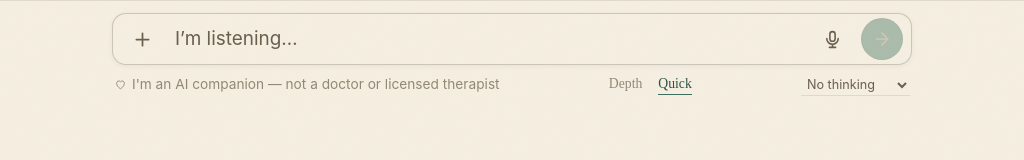
Scenario: voice input › explains a blocked microphone or unreachable speech service
The width and height of the screenshot is (1024, 160).
Click the button named "Voice input".
click(832, 39)  # box [811, 18, 853, 60]
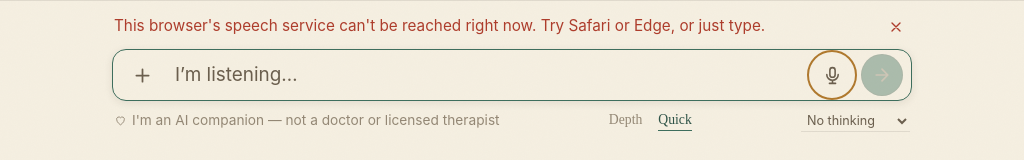
Expected: the message shows "This browser's speech service can't be reached right now. Try Safari or Edge, or just type.", [114, 16, 765, 35]
Click the button named "Voice input".
click(832, 75)  # box [811, 54, 853, 96]
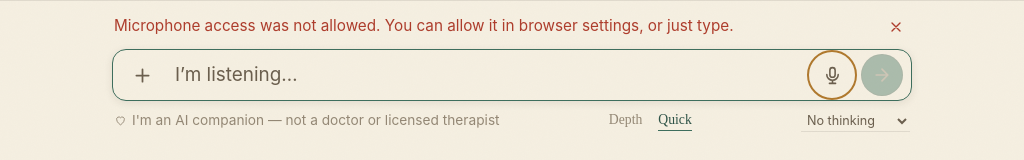
Expected: the message shows "Microphone access was not allowed. You can allow it in browser settings, or just type.", [114, 16, 734, 35]
